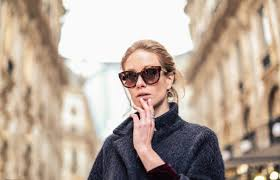Glasses: (114, 68, 171, 90)
